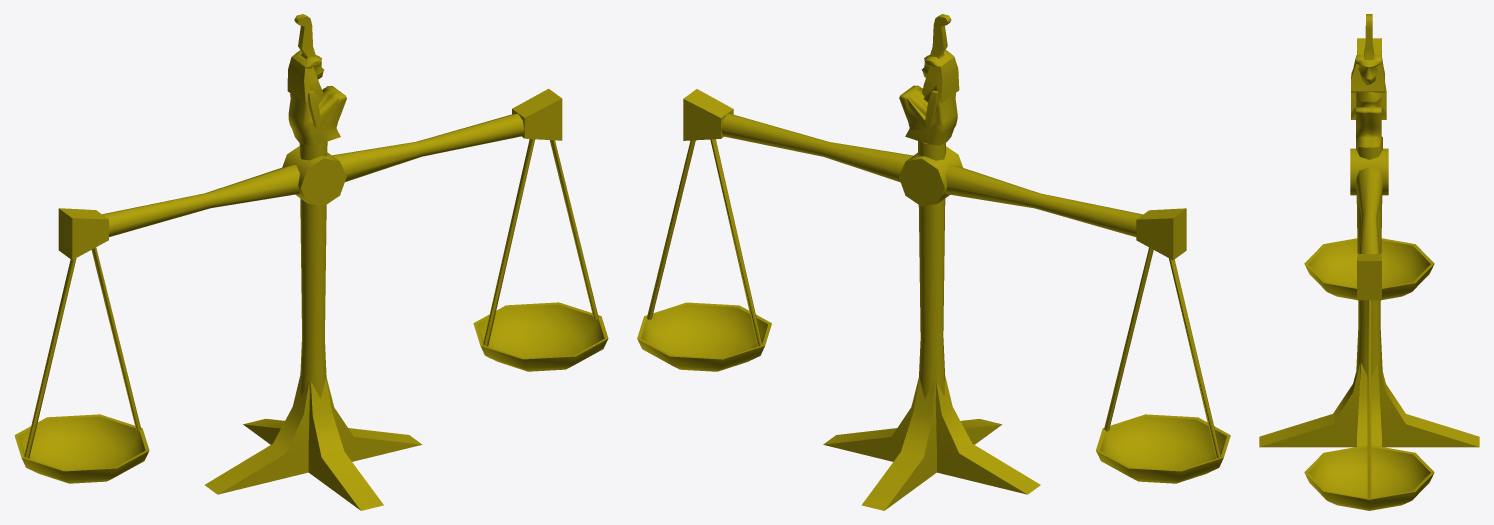
Rendered from ScaleOfMaat.fbx.
The picture shows the model from 3 angles, left to right: view 1: azimuth 30°, elevation 25°; view 2: azimuth 150°, elevation 25°; view 3: azimuth 270°, elevation 25°; orthographic projection. The views are drawn at different scales.
Parts seen in each view (by area): view 1: HorizontalPole1, Bowl1, Bowl2, Stand, MiddlePole, Stand1, MaatFigure, Hinge1, Arm1, Arm2, Rope1, Rope3 (+2 smaller); view 2: HorizontalPole1, Bowl1, Bowl2, Stand, MiddlePole, Stand1, MaatFigure, Hinge1, Arm1, Arm2, Rope1, Rope3 (+2 smaller); view 3: Stand1, Bowl2, Bowl1, MaatFigure, MiddlePole, HorizontalPole1, Stand, Arm2, Rope2, Hinge1, Arm1.
Part boxes in pixels (x1,y1,x2,y2): HorizontalPole1: (102,114,524,236); Bowl1: (14,414,149,483); Bowl2: (473,302,608,371); Stand: (205,374,422,494); MiddlePole: (299,141,327,399); Stand1: (243,378,383,510); MaatFigure: (287,14,346,146); Hinge1: (282,146,346,206); Arm1: (58,208,108,260); Arm2: (512,88,562,140); Rope1: (483,139,535,346); Rope3: (24,258,76,458); HorizontalPole1: (721,114,1142,236); Bowl1: (1096,414,1230,483); Bowl2: (637,302,771,371); Stand: (823,375,1040,494); MiddlePole: (918,141,945,398); Stand1: (862,378,1002,510); MaatFigure: (899,14,959,145); Hinge1: (899,146,963,206); Arm1: (1136,208,1186,260); Arm2: (683,89,733,140); Rope1: (710,139,762,346); Rope3: (1169,258,1221,458); Stand1: (1259,362,1479,447); Bowl2: (1304,445,1434,510); Bowl1: (1304,238,1434,299); MaatFigure: (1351,14,1386,147); MiddlePole: (1356,136,1382,378); HorizontalPole1: (1355,166,1383,253); Stand: (1357,363,1381,446); Arm2: (1357,254,1381,300); Rope2: (1367,300,1371,498); Hinge1: (1350,148,1388,195); Arm1: (1357,38,1381,55).
Bounding box in the file's own units: 9.98 × 7.43 × 3.53.
